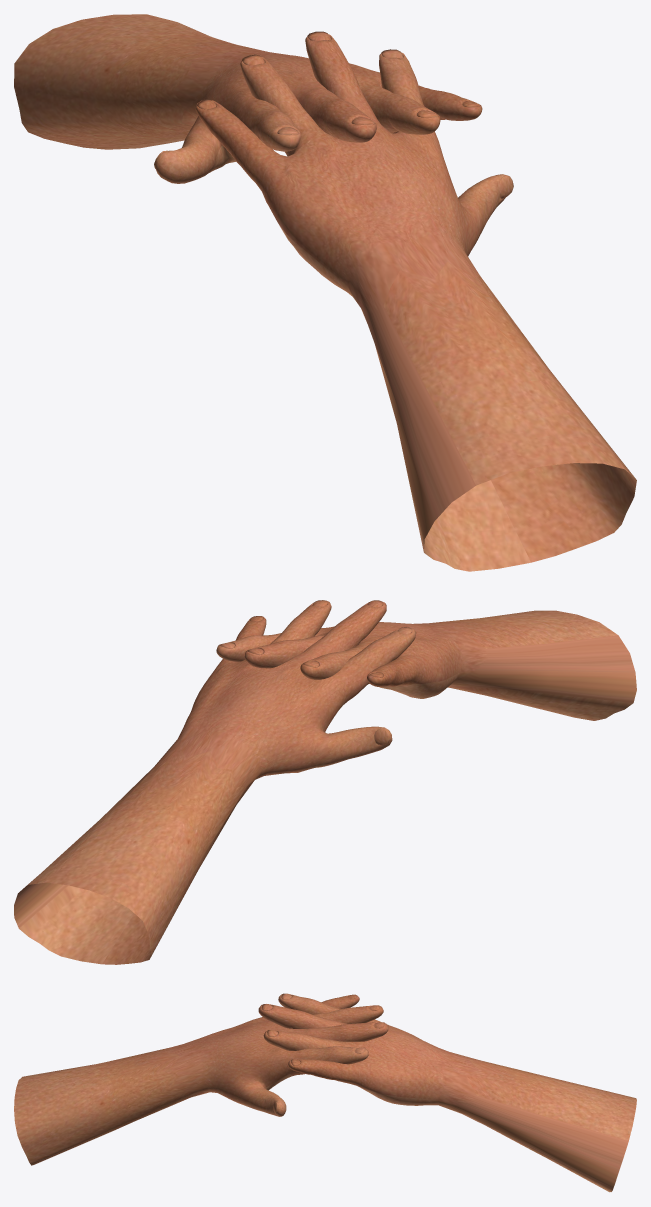
The model's file is hands_000127.obj.
3 renders of one model, top to bottom at view 1: azimuth 30°, elevation 25°; view 2: azimuth 150°, elevation 25°; view 3: azimuth 270°, elevation 25°, orthographic. The views are drawn at different scales.
Parts seen in each view (by area): view 1: hand.001_Mesh.001, hand_Mesh; view 2: hand_Mesh, hand.001_Mesh.001; view 3: hand_Mesh, hand.001_Mesh.001.
Boxes of the visible parts, x1,y1,x2,y2 form: hand.001_Mesh.001: (195, 31, 636, 571); hand_Mesh: (14, 14, 482, 183); hand_Mesh: (14, 600, 416, 964); hand.001_Mesh.001: (216, 610, 636, 720); hand_Mesh: (258, 993, 636, 1192); hand.001_Mesh.001: (14, 994, 388, 1165).
Bounding box in the file's own units: 1.63 × 1.42 × 5.02.
1 material, 1 textured.
